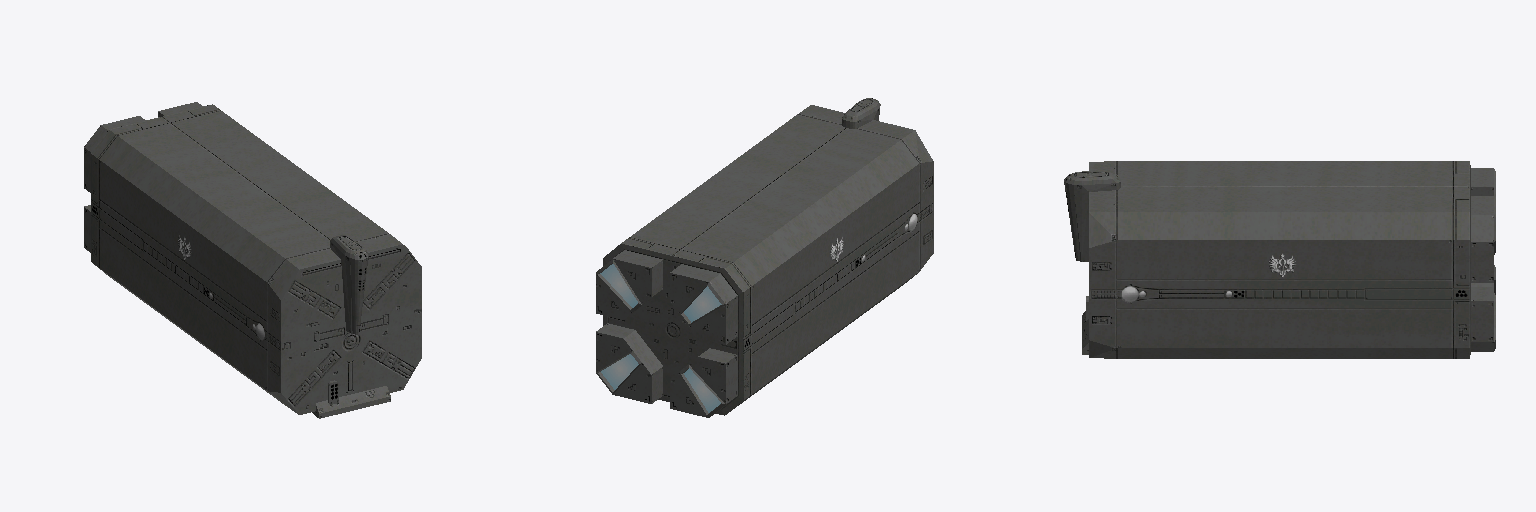
3 views of the same model, side by side, from view 1: azimuth 30°, elevation 25°; view 2: azimuth 150°, elevation 25°; view 3: azimuth 270°, elevation 25° (orthographic).
Visible parts, largest first — view 1: empire_transport; view 2: empire_transport; view 3: empire_transport.
Part boxes in pixels (left/top/right/bottom): empire_transport: left=84, top=102, right=421, bottom=418; empire_transport: left=596, top=98, right=933, bottom=417; empire_transport: left=1064, top=161, right=1495, bottom=358.
Bounding box in the file's own units: 185 × 206 × 494.
Materials: 1 (1 with a texture image).